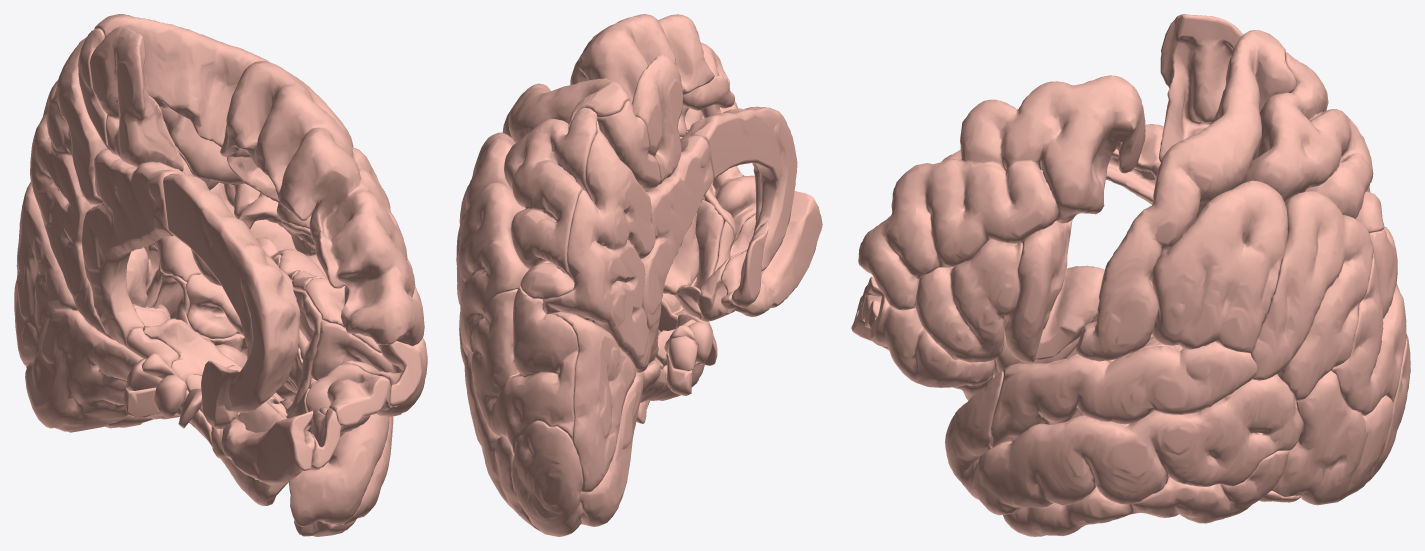
Rendered from female-a-organ-5.glb.
3 views of the same model, side by side, from view 1: azimuth 30°, elevation 25°; view 2: azimuth 150°, elevation 25°; view 3: azimuth 270°, elevation 25° (orthographic). The views are drawn at different scales.
Visible parts, largest first — view 1: Allen_middle_frontal_gyrus_R, Allen_cingulate_gyrus_rostral_anterior_part_R, Allen_postcentral_gyrus_R, Allen_precuneus_R, Allen_cingulate_gyrus_caudal_posterior_part_R, Allen_lingual_gyrus_medial_occipitotemporal_gyrus_R, Allen_paracentral_lobule_rostral_part_R, Allen_temporal_pole_R, Allen_cuneus_R, Allen_gyrus_rectus_straight_gyrus_R, Allen_lateral_orbital_gyrus_R, Allen_middle_temporal_gyrus_R (+22 smaller); view 2: Allen_precuneus_R, Allen_superior_occipital_gyrus_R, Allen_supraparietal_lobule_R, Allen_middle_frontal_gyrus_R, Allen_cingulate_gyrus_rostral_anterior_part_R, Allen_cuneus_R, Allen_angular_gyrus_R, Allen_occipital_pole_R, Allen_cingulate_gyrus_caudal_posterior_part_R, Allen_gyrus_rectus_straight_gyrus_R, Allen_paracentral_lobule_rostral_part_R, Allen_postcentral_gyrus_R (+14 smaller); view 3: Allen_middle_frontal_gyrus_R, Allen_middle_temporal_gyrus_R, Allen_postcentral_gyrus_R, Allen_supramarginal_gyrus_R, Allen_angular_gyrus_R, Allen_superior_temporal_gyrus_R, Allen_supraparietal_lobule_R, Allen_inferior_occipital_gyrus_R, Allen_inferior_frontal_gyrus_triangular_part_R, Allen_inferior_temporal_gyrus_R, Allen_superior_occipital_gyrus_R, Allen_paracentral_lobule_rostral_part_R (+7 smaller).
Boxes of the visible parts, x1,y1,x2,y2 form: Allen_middle_frontal_gyrus_R: (220,61,424,345); Allen_cingulate_gyrus_rostral_anterior_part_R: (163,173,300,412); Allen_postcentral_gyrus_R: (94,14,315,252); Allen_precuneus_R: (30,37,170,340); Allen_cingulate_gyrus_caudal_posterior_part_R: (81,149,185,347); Allen_lingual_gyrus_medial_occipitotemporal_gyrus_R: (25,309,142,432); Allen_paracentral_lobule_rostral_part_R: (89,26,183,171); Allen_temporal_pole_R: (288,413,389,526); Allen_cuneus_R: (14,182,77,366); Allen_gyrus_rectus_straight_gyrus_R: (221,401,314,484); Allen_lateral_orbital_gyrus_R: (311,320,427,416); Allen_middle_temporal_gyrus_R: (186,274,393,525); Allen_precuneus_R: (542,121,655,372); Allen_superior_occipital_gyrus_R: (470,285,578,453); Allen_supraparietal_lobule_R: (504,107,597,299); Allen_middle_frontal_gyrus_R: (570,14,737,136); Allen_cingulate_gyrus_rostral_anterior_part_R: (680,106,797,271); Allen_cuneus_R: (551,311,635,492); Allen_angular_gyrus_R: (456,182,529,355); Allen_occipital_pole_R: (511,420,584,536); Allen_cingulate_gyrus_caudal_posterior_part_R: (641,135,713,363); Allen_gyrus_rectus_straight_gyrus_R: (721,191,822,316); Allen_paracentral_lobule_rostral_part_R: (632,54,682,184); Allen_postcentral_gyrus_R: (502,78,630,143); Allen_middle_frontal_gyrus_R: (858,75,1145,310); Allen_middle_temporal_gyrus_R: (960,374,1302,515); Allen_postcentral_gyrus_R: (1076,30,1297,361); Allen_supramarginal_gyrus_R: (1150,180,1288,352); Allen_angular_gyrus_R: (1250,191,1373,401); Allen_superior_temporal_gyrus_R: (990,341,1257,448); Allen_supraparietal_lobule_R: (1243,52,1384,232); Allen_inferior_occipital_gyrus_R: (1271,370,1393,505); Allen_inferior_frontal_gyrus_triangular_part_R: (914,238,1022,362); Allen_inferior_temporal_gyrus_R: (1003,450,1289,536); Allen_superior_occipital_gyrus_R: (1331,227,1406,415); Allen_paracentral_lobule_rostral_part_R: (1159,14,1243,161).
Bounding box in the file's own units: 0.0594 × 0.1167 × 0.1268.
